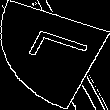L_SE: (17, 31, 93, 79)
